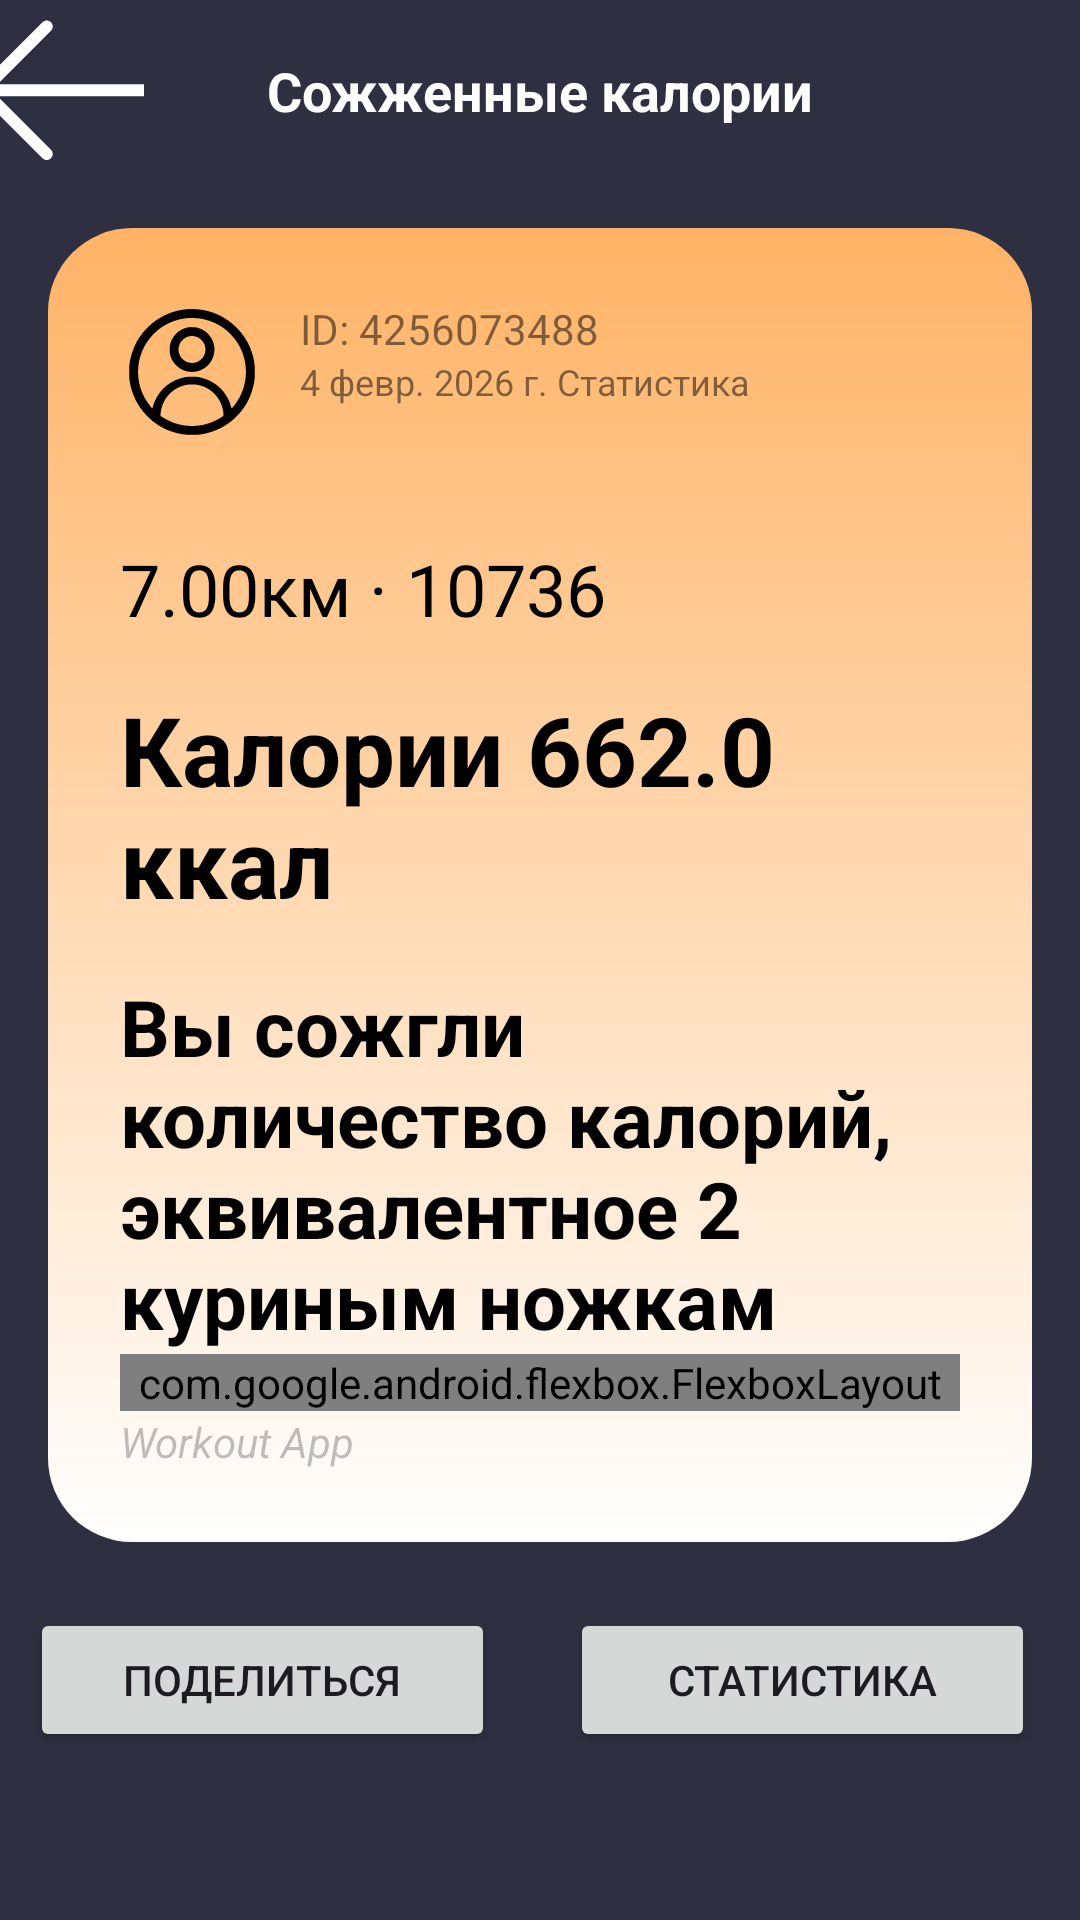

Named icons in this screenshot (1080px×1920px) and their bounding boxes, (x1, y1, x2, y2):
back: (0, 20, 144, 160)
user profile: (129, 309, 255, 435)
